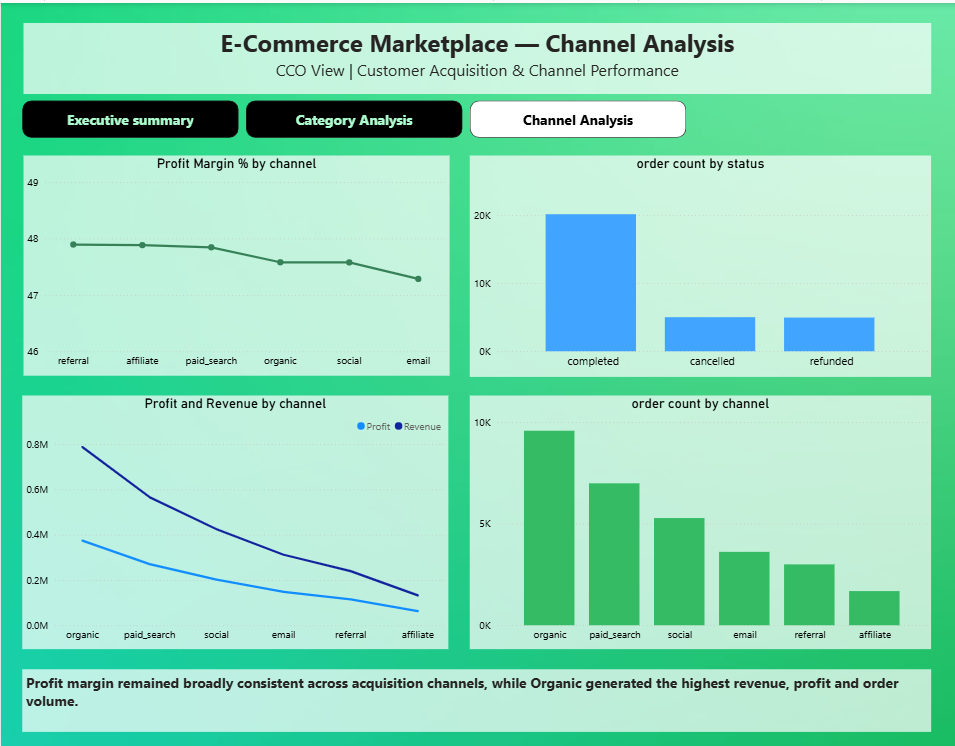

What the dashboard file says about the page in this screenshot:
{"tool":"powerbi","page":{"name":"Channel Analysis","canvas":[1280,1000],"ordinal":3},"visuals":[{"type":"lineChart","fields":{"Category":["Customers.channel"],"Y":["Order Items.Profit","Order Items.Revenue"]},"box":[28.5,526.1,571.4,340.1],"z":0},{"type":"lineChart","fields":{"Category":["Customers.channel"],"Y":["Order Items.Profit Margin %"]},"box":[30.2,204.4,571.4,294.9],"z":1000},{"type":"clusteredColumnChart","title":"order count by channel","fields":{"Category":["Customers.channel"],"Y":["CountNonNull(Order Items.order_id)"]},"box":[628.4,526.1,618.3,340.1],"z":2000},{"type":"clusteredColumnChart","title":"order count by status","fields":{"Category":["Orders.status"],"Y":["CountNonNull(Order Items.order_id)"]},"box":[628.4,204.4,618.3,296.6],"z":3000},{"type":"textbox","box":[28.5,893.1,1218.2,83.8],"z":4000},{"type":"textbox","box":[30.2,26.8,1216.5,95.5],"z":5000},{"type":"pageNavigator","box":[28.5,130.7,891.4,50.3],"z":6000}]}

Visuals, with their boxes in screenshot pixels (x1, y1, x2, y2), scaled from the page's 1280x1000 canvas onto the 955x746 screenshot:
lineChart - Customers.channel x Order Items.Profit: x1=21 y1=392 x2=448 y2=646
lineChart - Customers.channel x Order Items.Profit Margin %: x1=23 y1=152 x2=449 y2=372
"order count by channel" clusteredColumnChart: x1=469 y1=392 x2=930 y2=646
"order count by status" clusteredColumnChart: x1=469 y1=152 x2=930 y2=374
textbox: x1=21 y1=666 x2=930 y2=729
textbox: x1=23 y1=20 x2=930 y2=91
pageNavigator: x1=21 y1=98 x2=686 y2=135
